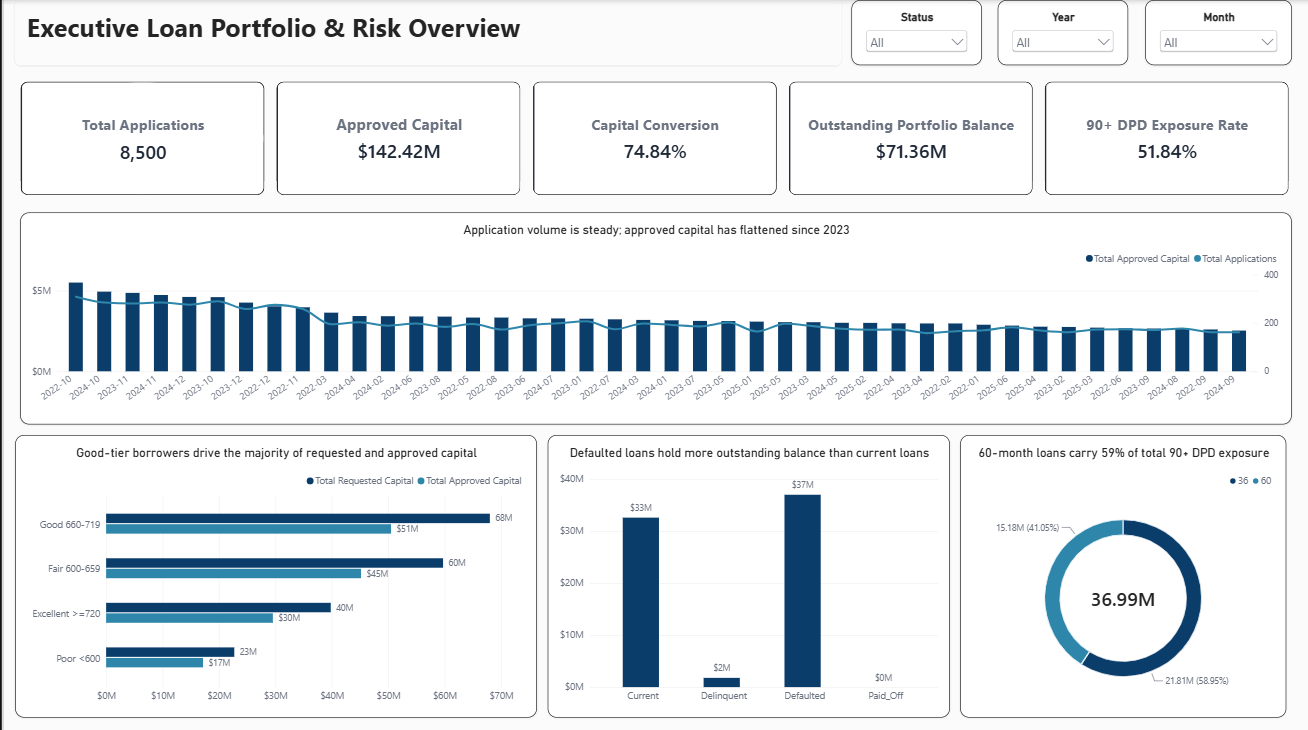

This screenshot's page, from the dashboard's own definition file:
{"tool":"powerbi","page":{"name":"Overview","canvas":[1920,1080],"ordinal":0},"visuals":[{"type":"textbox","box":[16,0,1216,96],"z":0},{"type":"cardVisual","fields":{"Data":["KPI_.Total Applications","KPI_.Total Approved Capital","KPI_.Capital Conversion Rate %","KPI_.Total Outstanding Balance","KPI_.Balance Default Rate %"]},"box":[24,120,1872,168],"z":1000},{"type":"lineClusteredColumnComboChart","title":"Application volume is steady; approved capital has flattened since 2023","fields":{"Category":["DimDate.YearMonth"],"Y":["KPI_.Total Approved Capital"],"Y2":["KPI_.Total Applications"]},"box":[24,312,1872,312],"z":2000},{"type":"clusteredBarChart","title":"Good-tier borrowers drive the majority of requested and approved capital","fields":{"Category":["DimBorrower.CreditScoreTier"],"Y":["KPI_.Total Requested Capital","KPI_.Total Approved Capital"]},"box":[16,640,768,416],"z":3000},{"type":"clusteredColumnChart","title":"Defaulted loans hold more outstanding balance than current loans","fields":{"Category":["FactLoanPerformance.PerformanceStatus"],"Y":["KPI_.Total Outstanding Balance"]},"box":[800,640,592,416],"z":4000},{"type":"donutChart","title":"60-month loans carry 59% of total 90+ DPD exposure","fields":{"Category":["FactLoanApplication.TermMonths"],"Y":["KPI_.90+ DPD Exposure $"]},"box":[1408,640,480,416],"z":5000},{"type":"slicer","title":"Month","fields":{"Values":["DimDate.Month"]},"box":[1680,0,216,96],"z":6000},{"type":"slicer","title":"Year","fields":{"Values":["DimDate.Year"]},"box":[1464,0,192,96],"z":7000},{"type":"slicer","title":"Status","fields":{"Values":["FactLoanApplication.ApplicationStatus"]},"box":[1248,0,192,96],"z":8000}]}

Visuals, with their boxes in screenshot pixels (x1, y1, x2, y2), scaled from the page's 1920x1080 canvas onto the 1308x730 screenshot:
textbox: [11,0,839,65]
cardVisual - KPI_.Total Applications x KPI_.Total Approved Capital: [16,81,1292,195]
"Application volume is steady; approved capital has flattened since 2023" lineClusteredColumnComboChart: [16,211,1292,422]
"Good-tier borrowers drive the majority of requested and approved capital" clusteredBarChart: [11,433,534,714]
"Defaulted loans hold more outstanding balance than current loans" clusteredColumnChart: [545,433,948,714]
"60-month loans carry 59% of total 90+ DPD exposure" donutChart: [959,433,1286,714]
"Month" slicer: [1144,0,1292,65]
"Year" slicer: [997,0,1128,65]
"Status" slicer: [850,0,981,65]
